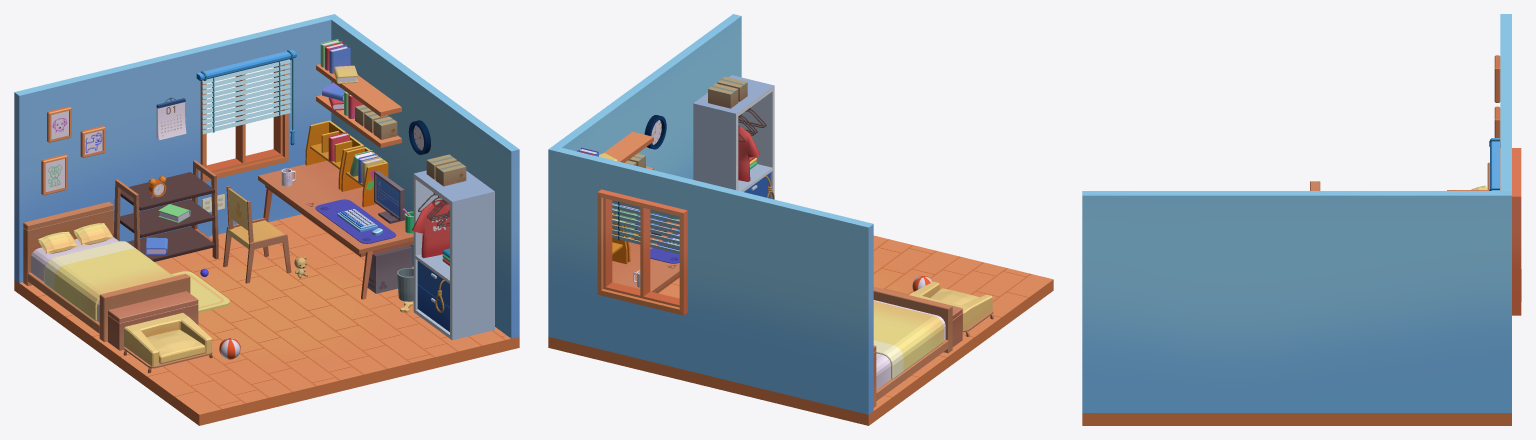
The model's file is stage_1_ last_final.fbx.
3 renders of one model, left to right at view 1: azimuth 30°, elevation 25°; view 2: azimuth 150°, elevation 25°; view 3: azimuth 270°, elevation 25°, orthographic. The views are drawn at different scales.
Parts seen in each view (by area): view 1: wall, floor, ornaments, desk, closet, bed, shelf_bedroom, dog_cushion, chair, bed_block, trashcan; view 2: wall, floor, closet, bed, ornaments, desk, dog_cushion; view 3: wall, floor, ornaments.
Boxes of the visible parts, box(x1,y1,x2,y2) form: wall: box(14, 14, 519, 338); floor: box(14, 214, 519, 425); ornaments: box(41, 39, 430, 212); desk: box(258, 120, 413, 299); closet: box(412, 154, 494, 340); bed: box(23, 201, 190, 341); shelf_bedroom: box(113, 160, 218, 261); dog_cushion: box(123, 313, 212, 373); chair: box(223, 185, 291, 283); bed_block: box(108, 291, 198, 350); trashcan: box(397, 268, 413, 301); wall: box(548, 14, 873, 414); floor: box(548, 235, 1053, 425); closet: box(693, 75, 774, 198); bed: box(873, 287, 952, 407); ornaments: box(577, 115, 679, 254); desk: box(612, 205, 679, 293); dog_cushion: box(909, 281, 993, 336); wall: box(1082, 14, 1521, 412); floor: box(1082, 413, 1511, 425); ornaments: box(1489, 55, 1500, 190).
Bounding box in the file's own units: 600 × 355 × 613.
